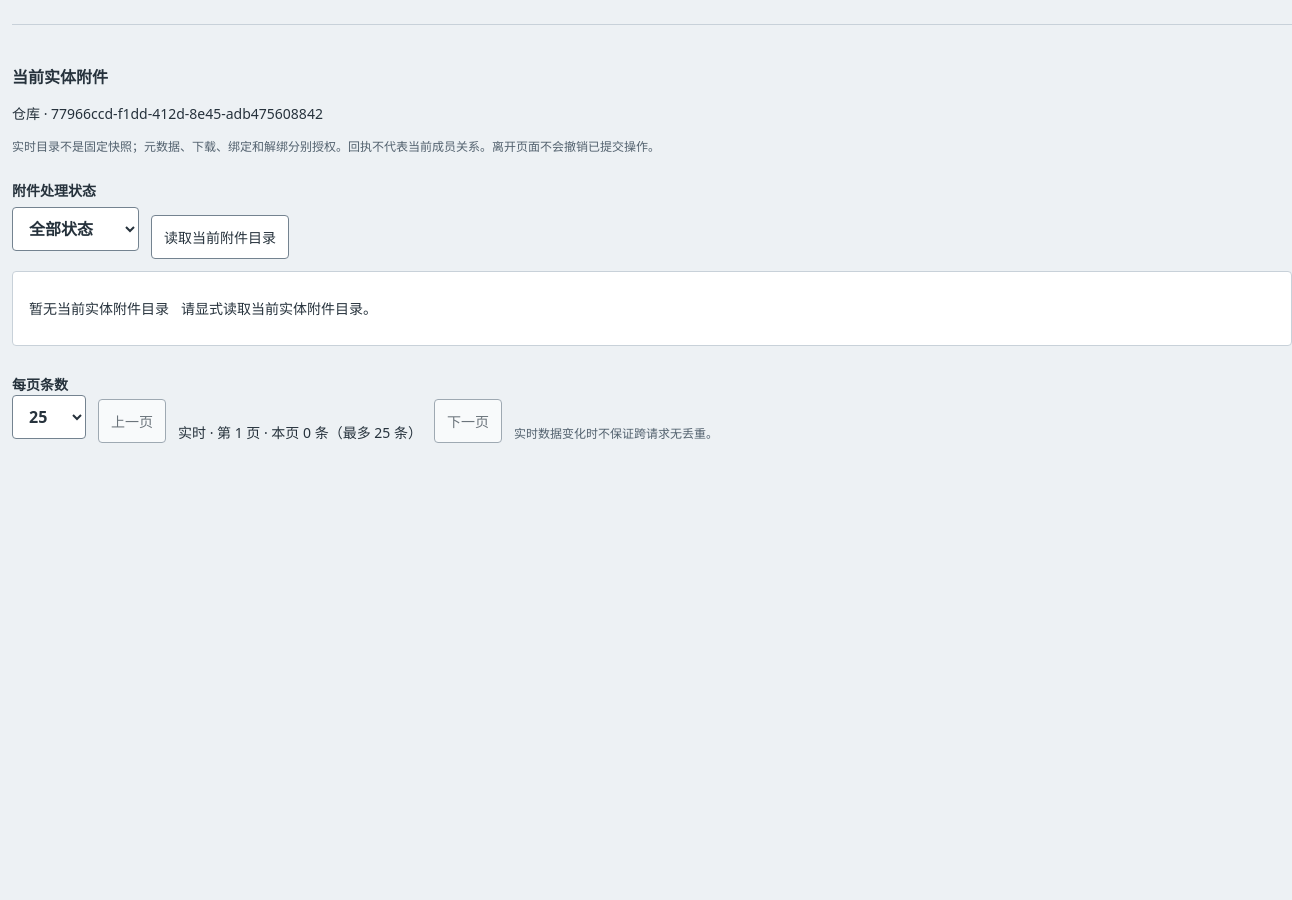
Test: rereads an explicitly selected exact attachment and does not label it unbound
This screenshot has width=1292, height=900.
Click the button with test id "attachments-read" at (220, 237), box [151,215,289,259]
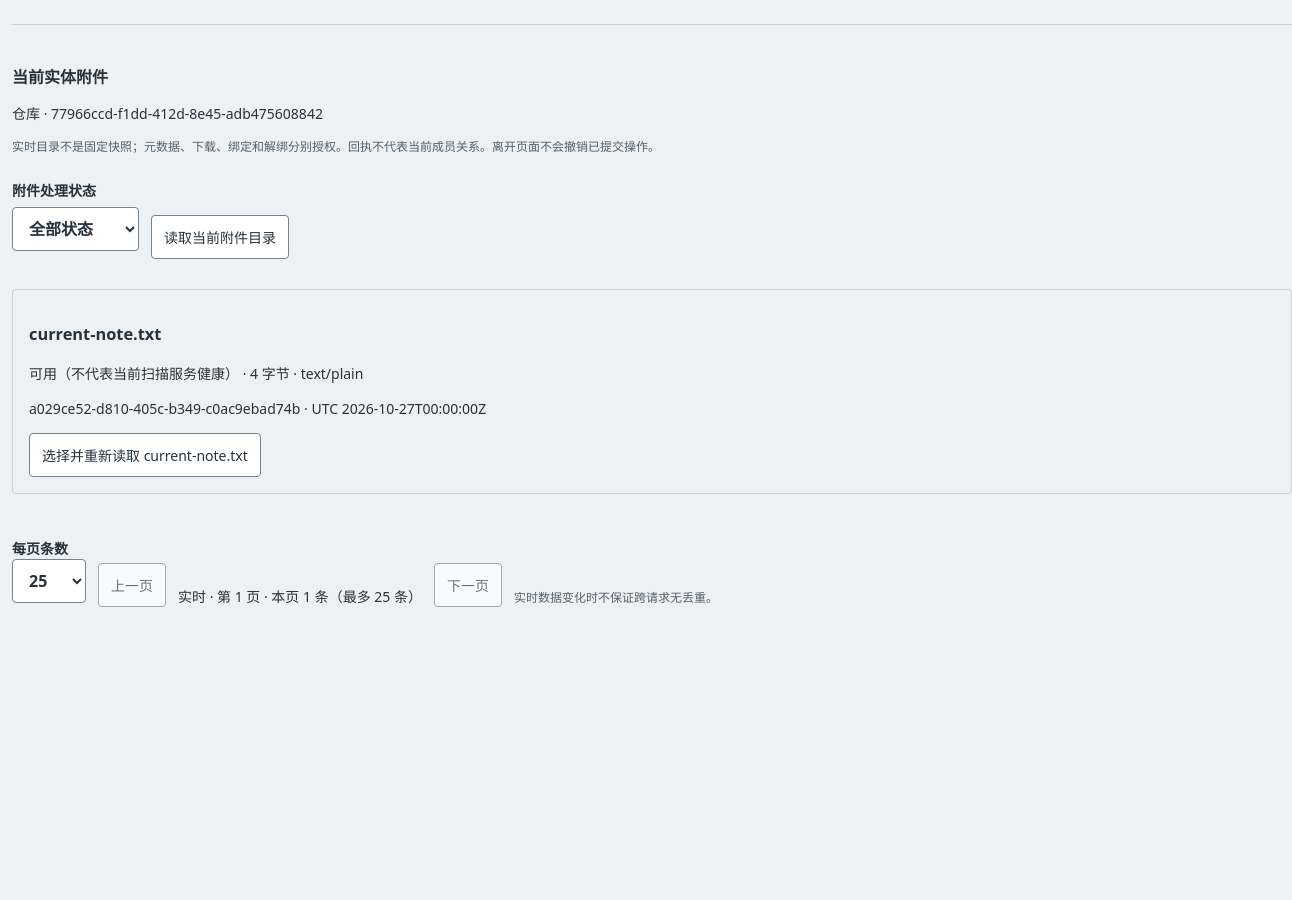
Click the button with test id "attachment-select" at (145, 455), box [29,433,261,477]
(page scrolled)
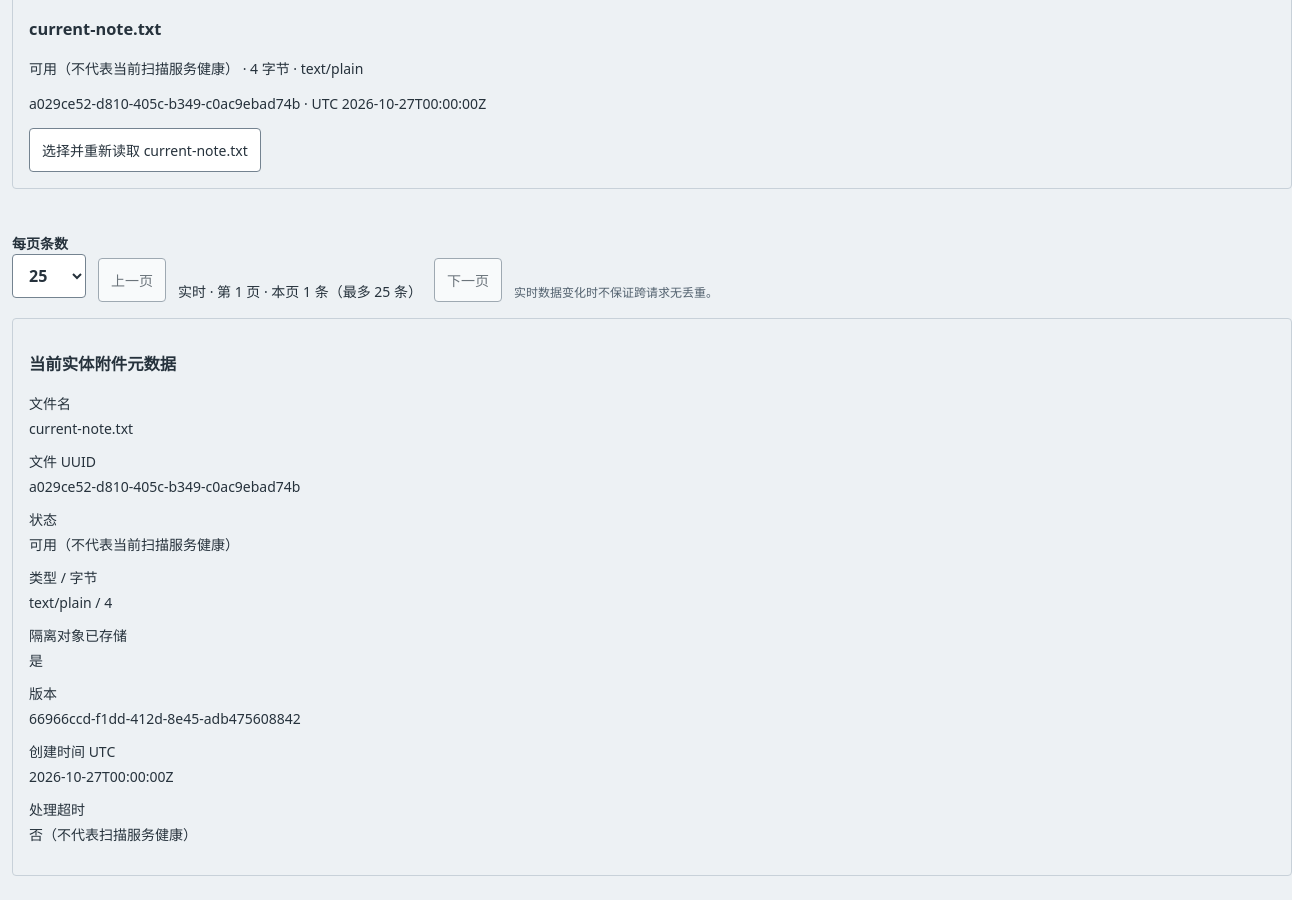
Expected: the element with test id "attachment-details" shows "66966ccd-f1dd-412d-8e45-adb475608842", [29,709,301,728]
